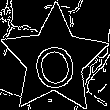O_N: (28, 30, 81, 90)
